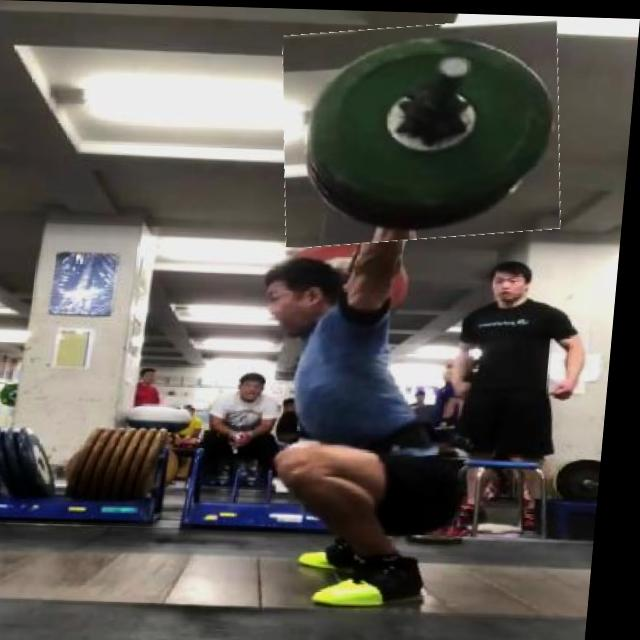barbell: (276, 13, 574, 246)
